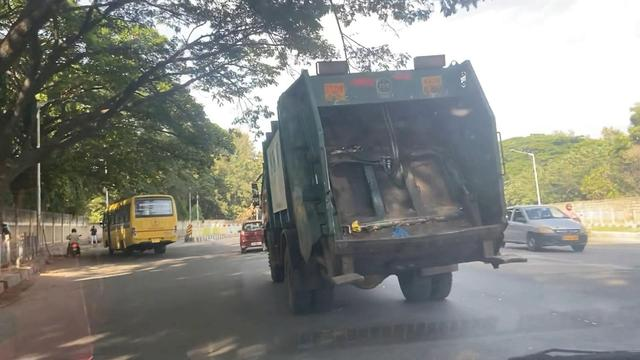HMV: (255, 55, 499, 305), (97, 202, 176, 252)
